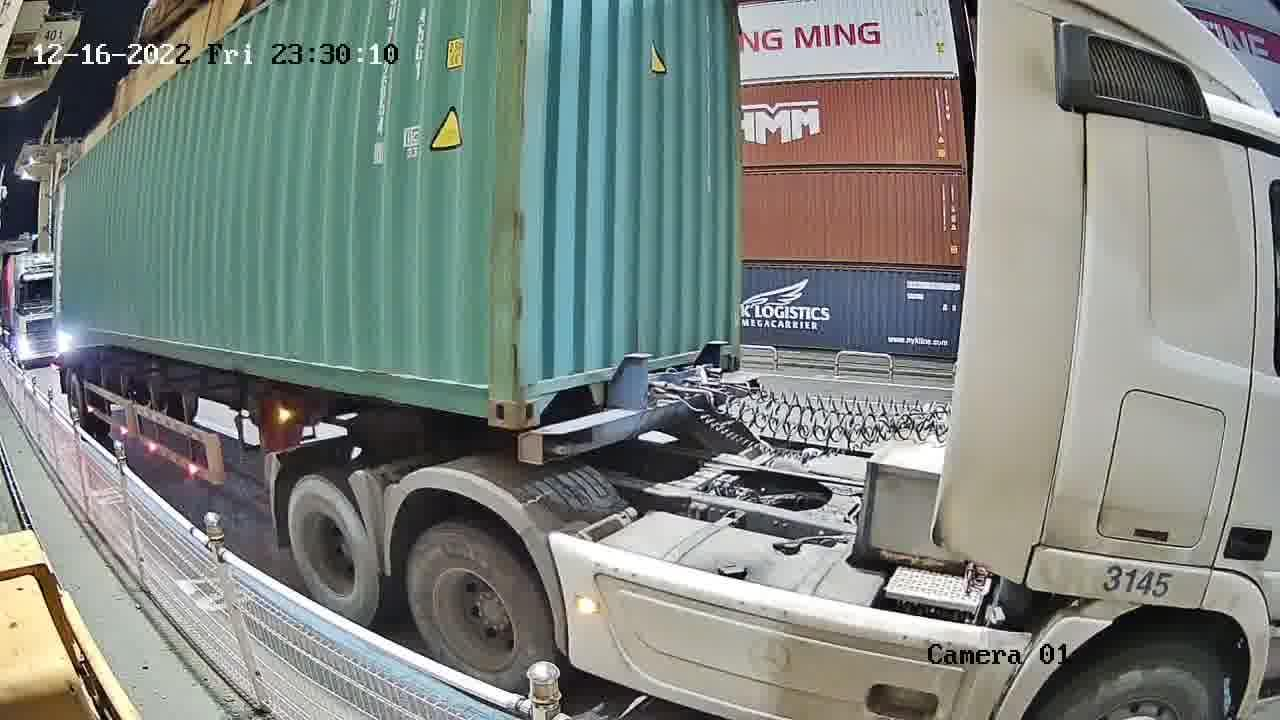Chassis: (518, 369, 764, 468)
Container: (518, 325, 744, 428)
Hole_L: (514, 355, 561, 428)
Hole_R: (462, 356, 516, 427), (705, 325, 743, 375)
Tire: (405, 528, 557, 692), (289, 479, 379, 627)
